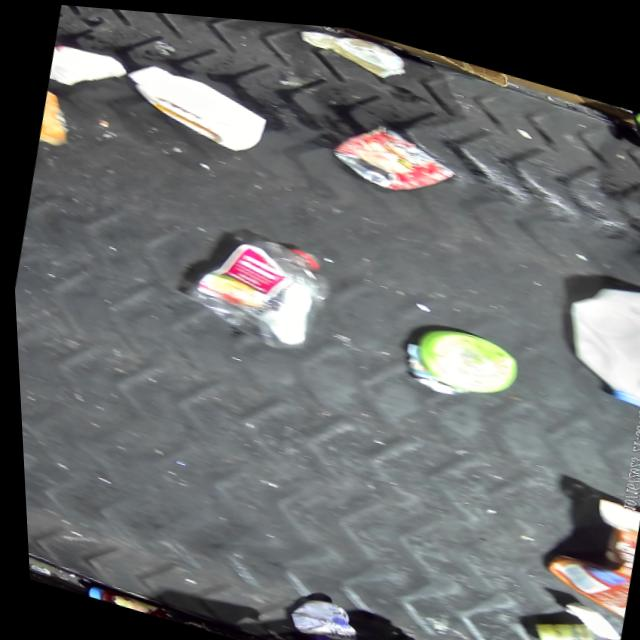can: (325, 104, 461, 202), (274, 583, 362, 640)
milk_jug: (543, 256, 640, 402)
plastic_bottle: (171, 209, 338, 356)
